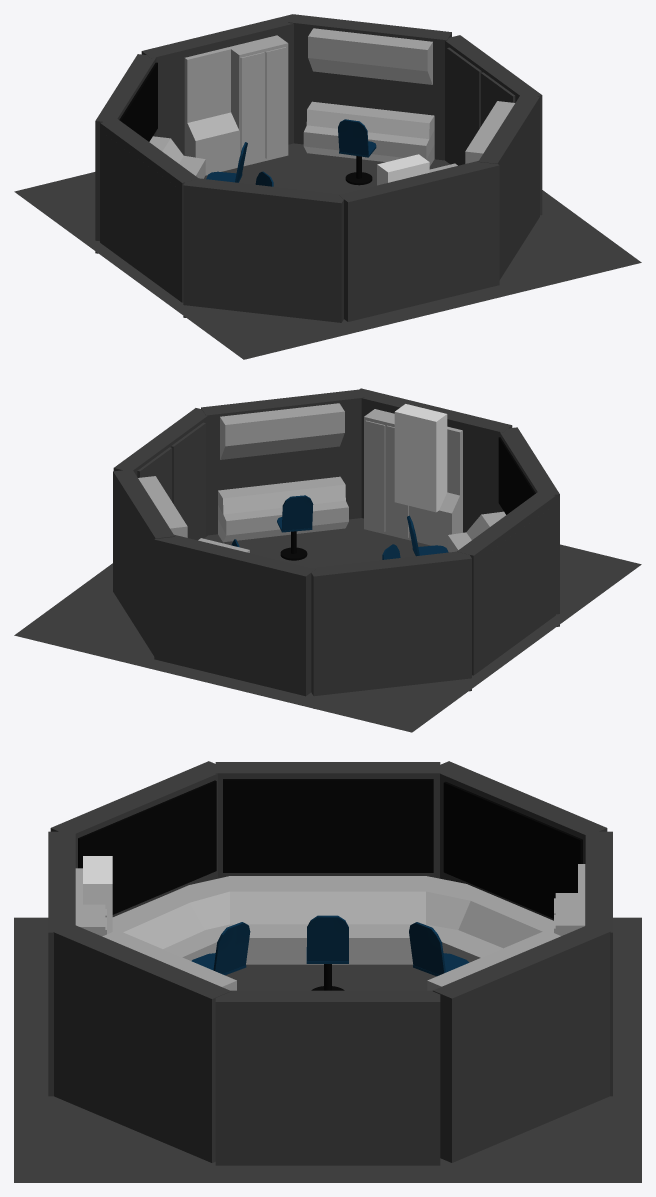
File: косм.корабль.fbx
3 views of the same model, one above another, from view 1: azimuth 30°, elevation 25°; view 2: azimuth 150°, elevation 25°; view 3: azimuth 270°, elevation 25° (orthographic). The views are drawn at different scales.
Visible parts, largest first — view 1: Plane, Cube.009, Cube.004, Cube.005, Cube.008, Cube.006, Cube.007, Cube.018, Cube.024, Cube.030, Cube.010, Cube.003 (+7 smaller); view 2: Plane, Cube, Cube.018, Cube.008, Cube.007, Cube.001, Cube.006, Cube.023, Cube.029, Cube.004, Cube.002, Cube.019 (+7 smaller); view 3: Plane, Cube.003, Cube.006, Cube.007, Cube.011, Cube.021, Cube.020, Cube.022, Cube.008, Cube, Cube.009, Cube.004 (+9 smaller).
Boxes of the visible parts, bbox=[...] form: Plane: bbox=[14, 143, 641, 359]; Cube.009: bbox=[183, 178, 343, 322]; Cube.004: bbox=[338, 161, 499, 321]; Cube.005: bbox=[184, 35, 288, 175]; Cube.008: bbox=[100, 119, 198, 302]; Cube.006: bbox=[288, 14, 451, 160]; Cube.007: bbox=[478, 94, 539, 279]; Cube.018: bbox=[141, 14, 293, 155]; Cube.024: bbox=[303, 101, 434, 166]; Cube.030: bbox=[308, 28, 432, 84]; Cube.010: bbox=[447, 47, 481, 165]; Cube.003: bbox=[445, 35, 542, 215]; Plane: bbox=[14, 518, 641, 732]; Cube: bbox=[311, 551, 471, 696]; Cube.018: bbox=[154, 534, 315, 696]; Cube.008: bbox=[457, 491, 555, 675]; Cube.007: bbox=[201, 389, 364, 535]; Cube.001: bbox=[364, 409, 462, 549]; Cube.006: bbox=[113, 469, 174, 656]; Cube.023: bbox=[218, 476, 348, 542]; Cube.029: bbox=[220, 403, 344, 459]; Cube.004: bbox=[359, 388, 512, 532]; Cube.002: bbox=[394, 404, 447, 512]; Cube.019: bbox=[171, 422, 205, 540]; Plane: bbox=[14, 917, 641, 1182]; Cube.003: bbox=[215, 990, 440, 1165]; Cube.006: bbox=[433, 923, 610, 1162]; Cube.007: bbox=[53, 924, 231, 1162]; Cube.011: bbox=[112, 876, 553, 964]; Cube.021: bbox=[223, 779, 433, 872]; Cube.020: bbox=[443, 781, 582, 918]; Cube.022: bbox=[78, 780, 216, 914]; Cube.008: bbox=[215, 762, 440, 878]; Cube: bbox=[440, 761, 607, 925]; Cube.009: bbox=[50, 761, 217, 916]; Cube.004: bbox=[48, 831, 75, 1096].
Bounding box in the file's own units: 399 × 134 × 399.
